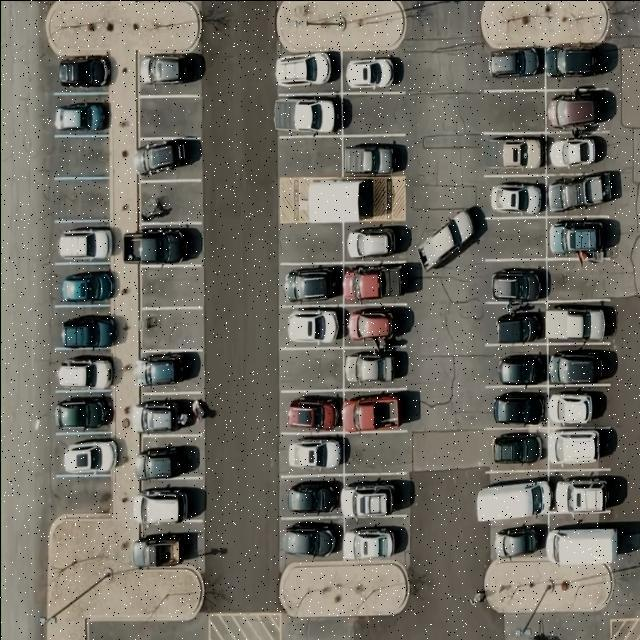space-empty: (546, 255, 616, 302), (138, 306, 202, 354), (344, 432, 412, 476), (138, 262, 202, 308), (136, 178, 200, 224), (478, 90, 544, 134), (342, 92, 408, 136), (51, 176, 112, 222), (137, 94, 200, 138), (279, 222, 342, 266), (280, 349, 344, 392), (479, 218, 546, 258), (280, 136, 342, 178), (50, 136, 111, 177), (56, 478, 107, 518)
space-occupied: (124, 222, 202, 272), (548, 518, 626, 566), (477, 474, 549, 524), (546, 300, 616, 350), (550, 471, 618, 522), (341, 259, 415, 305), (276, 90, 342, 140), (132, 481, 202, 528), (545, 215, 613, 263), (342, 344, 410, 391), (342, 388, 414, 432), (136, 348, 204, 394), (341, 51, 408, 97), (550, 426, 614, 474), (50, 262, 116, 308), (133, 436, 202, 480), (132, 393, 204, 435), (54, 433, 118, 480), (54, 306, 118, 353), (50, 389, 116, 434), (479, 134, 546, 178), (342, 474, 409, 518), (342, 516, 409, 560), (544, 42, 611, 86), (483, 427, 547, 473), (136, 136, 200, 182), (280, 305, 342, 352), (544, 132, 610, 176), (138, 50, 204, 94), (482, 386, 546, 431), (484, 42, 545, 89), (276, 50, 341, 94), (343, 304, 411, 346), (281, 432, 344, 477), (544, 90, 611, 132), (546, 384, 610, 427), (485, 174, 547, 218), (342, 134, 404, 178), (486, 342, 546, 387), (136, 527, 205, 566), (280, 262, 340, 306), (280, 474, 340, 518), (282, 390, 342, 434), (485, 260, 545, 304), (52, 93, 110, 138), (57, 348, 112, 395), (280, 518, 341, 560), (488, 520, 546, 564), (49, 226, 112, 266), (486, 304, 546, 346), (342, 226, 409, 262), (546, 178, 608, 216), (53, 55, 110, 94), (546, 353, 610, 381)
